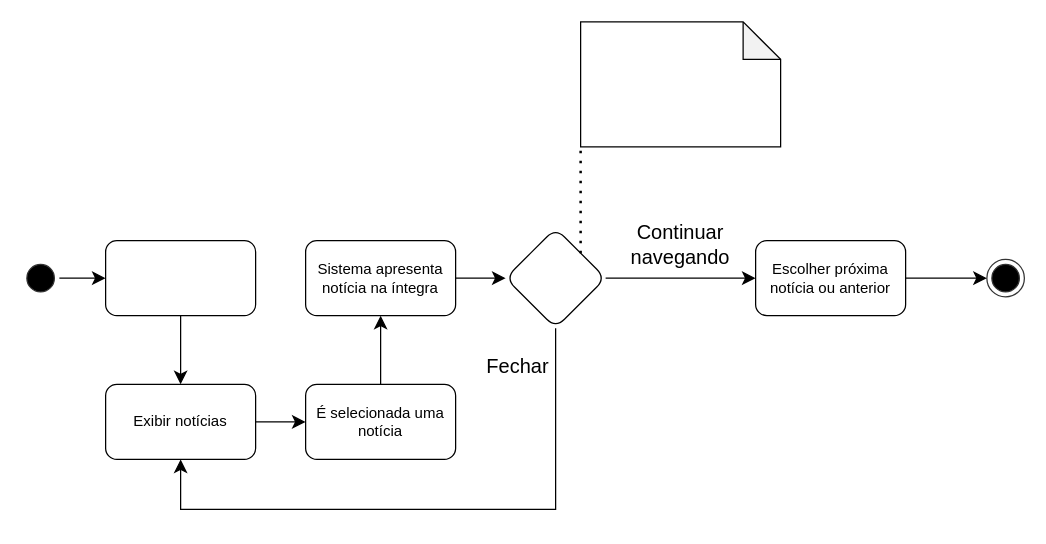
Image size: 1046x544. Some labels were removed from this diagram. Each missing label, with the box of its shape:
Acessar visualização de notícias: (104, 239, 256, 316)
Fechar notícia ou continuar navegando?: (579, 21, 781, 147)
